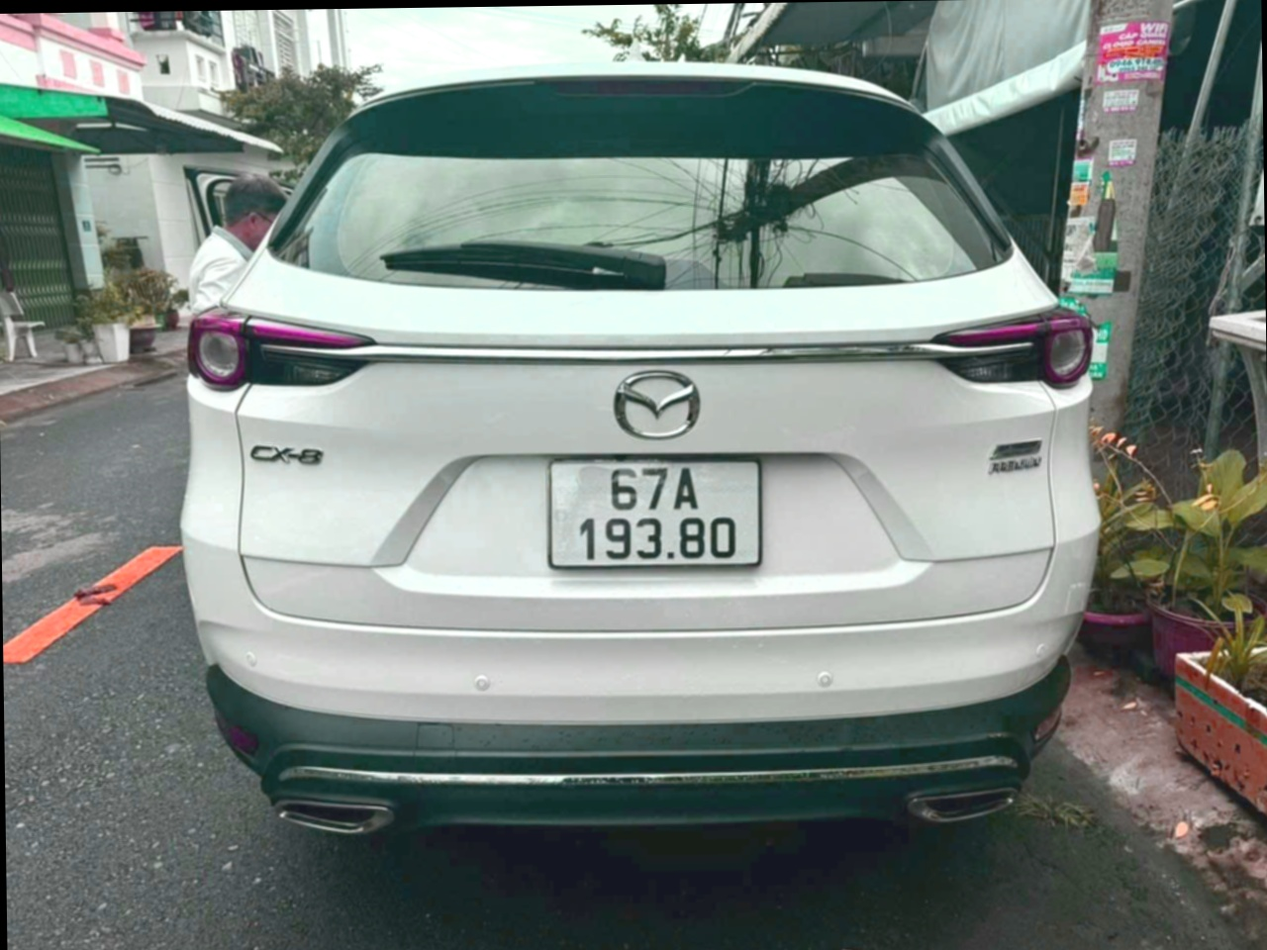Bien-so: (542, 453, 770, 576)
